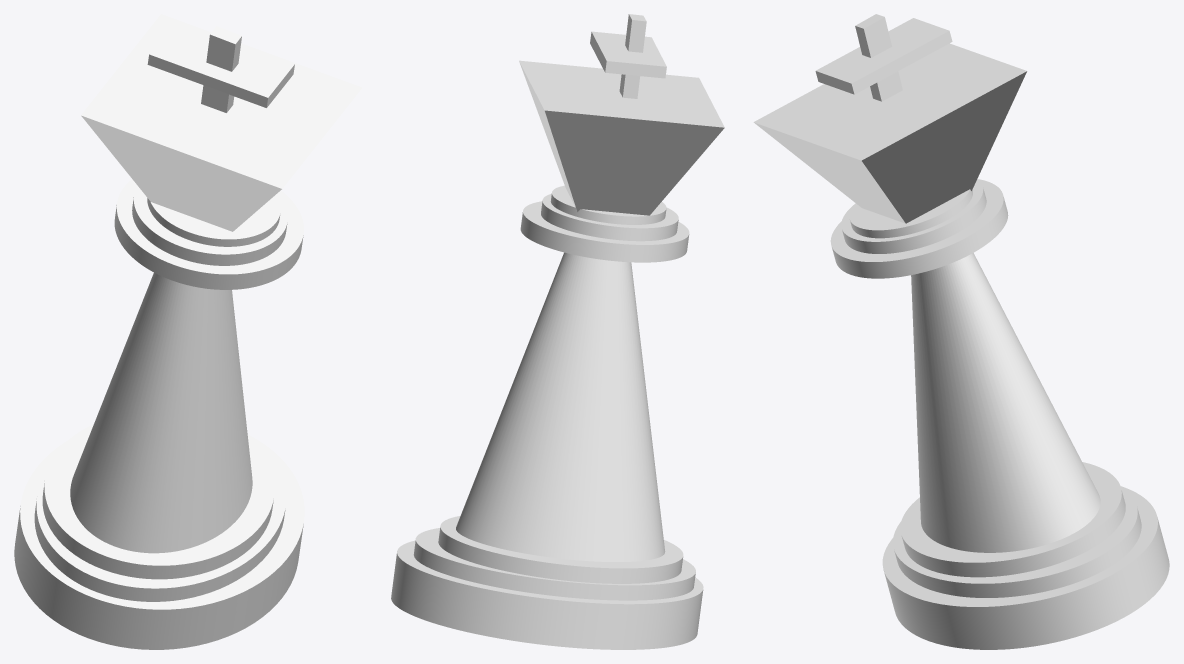
The picture shows the model from 3 angles, left to right: view 1: azimuth 30°, elevation 25°; view 2: azimuth 150°, elevation 25°; view 3: azimuth 270°, elevation 25°; orthographic projection. The views are drawn at different scales.
Visible parts, largest first — view 1: mesh_id38, mesh_id27, mesh_id56, mesh_id44, mesh_id50, mesh_id29, mesh_id60, mesh_id36, mesh_id35, mesh_id58; view 2: mesh_id38, mesh_id27, mesh_id56, mesh_id44, mesh_id50, mesh_id29, mesh_id36, mesh_id60, mesh_id35, mesh_id58; view 3: mesh_id38, mesh_id27, mesh_id56, mesh_id44, mesh_id50, mesh_id29, mesh_id60, mesh_id36, mesh_id35, mesh_id58.
Boxes of the visible parts, x1,y1,x2,y2 form: mesh_id38: [70, 272, 252, 553]; mesh_id27: [81, 14, 361, 231]; mesh_id56: [14, 437, 304, 649]; mesh_id44: [42, 424, 274, 579]; mesh_id50: [34, 434, 286, 601]; mesh_id29: [114, 179, 303, 289]; mesh_id60: [147, 20, 294, 107]; mesh_id36: [132, 186, 287, 265]; mesh_id35: [147, 194, 280, 246]; mesh_id58: [201, 26, 241, 112]; mesh_id38: [456, 252, 665, 561]; mesh_id27: [519, 60, 724, 215]; mesh_id56: [391, 540, 703, 649]; mesh_id44: [438, 516, 683, 583]; mesh_id50: [413, 528, 695, 600]; mesh_id29: [520, 201, 689, 262]; mesh_id36: [541, 194, 678, 241]; mesh_id60: [590, 31, 666, 78]; mesh_id35: [550, 185, 666, 224]; mesh_id58: [619, 14, 646, 98]; mesh_id38: [911, 253, 1100, 552]; mesh_id27: [753, 43, 1027, 223]; mesh_id56: [882, 486, 1169, 649]; mesh_id44: [900, 462, 1125, 577]; mesh_id50: [893, 486, 1141, 597]; mesh_id29: [830, 179, 1008, 278]; mesh_id60: [815, 18, 952, 94]; mesh_id36: [841, 179, 986, 253]; mesh_id35: [849, 189, 972, 238]; mesh_id58: [855, 14, 902, 101].
Size of the model in its own units: 0.0644 by 0.1403 by 0.0895.
10 materials, 10 textured.
